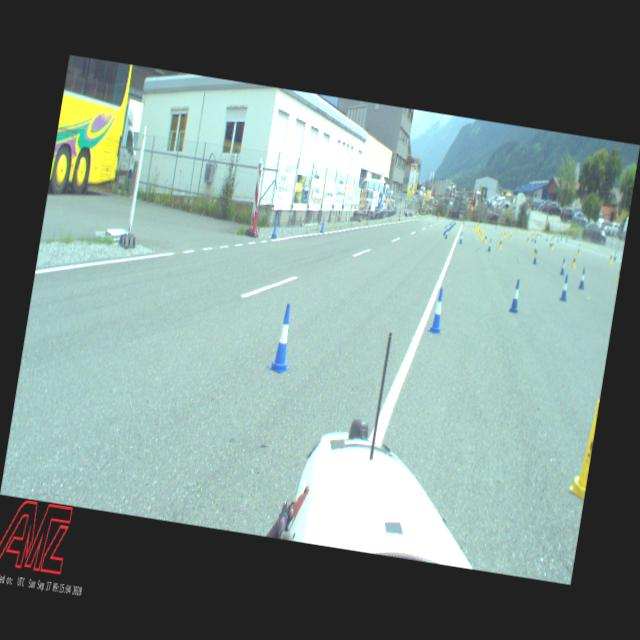blue_cone: (268, 302, 300, 376), (428, 287, 448, 336), (508, 278, 522, 314), (559, 273, 571, 302), (578, 267, 587, 290), (560, 258, 566, 276), (532, 250, 538, 266), (612, 250, 618, 262), (444, 228, 450, 240), (459, 231, 464, 244), (488, 238, 492, 252), (549, 236, 553, 248), (534, 232, 538, 244), (530, 230, 534, 242), (443, 226, 447, 237), (556, 234, 560, 243), (447, 222, 450, 233), (462, 218, 466, 226), (560, 232, 563, 242), (445, 224, 448, 233), (578, 242, 580, 252), (546, 233, 548, 242), (566, 234, 568, 243)
unknown_cone: (270, 213, 280, 240), (319, 216, 326, 233)
yellow_cone: (568, 398, 600, 502), (571, 252, 578, 270), (532, 244, 538, 260), (608, 252, 614, 266), (498, 236, 504, 250), (616, 267, 620, 283), (484, 232, 488, 244), (578, 246, 582, 258), (526, 233, 530, 244), (550, 240, 554, 250), (518, 229, 522, 239), (530, 230, 534, 239), (480, 230, 483, 240), (508, 228, 511, 238), (537, 229, 540, 238), (478, 227, 481, 236), (480, 228, 482, 238), (504, 230, 506, 239), (510, 232, 512, 240), (502, 229, 504, 237)
